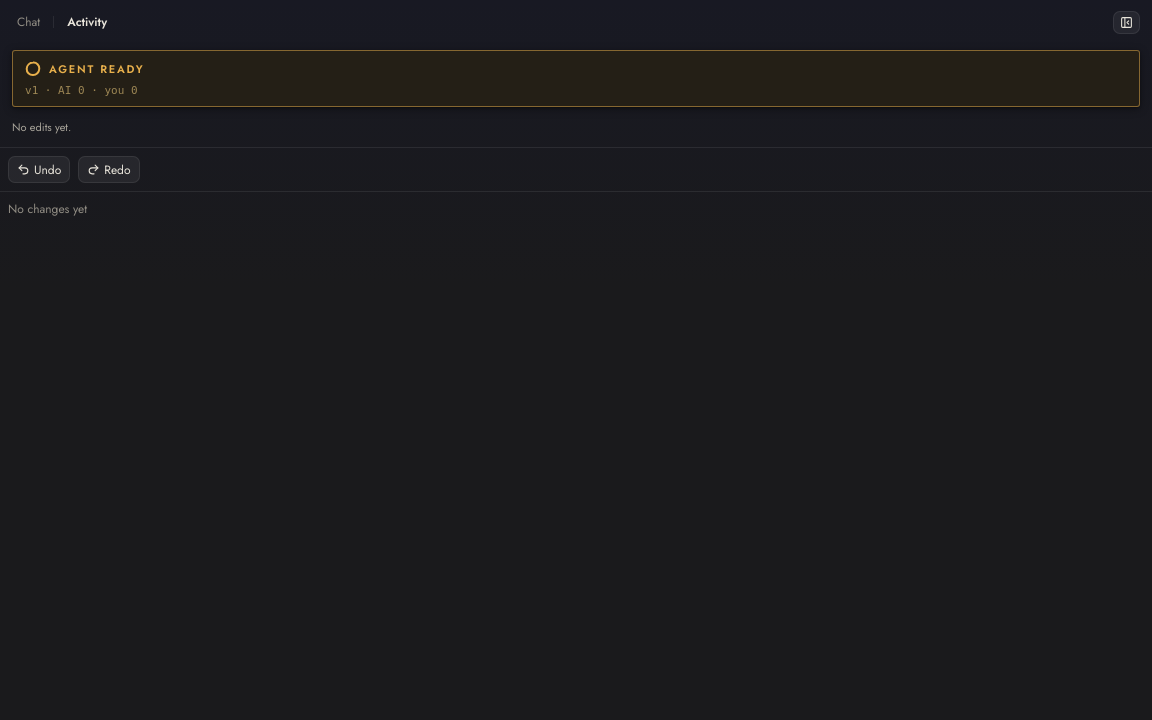
it: AI column tabs › shows the conversation on the Chat tab
Step 1. Click the button with class "tab-link" showing "Chat" → (29, 22), box [12,10,45,34]
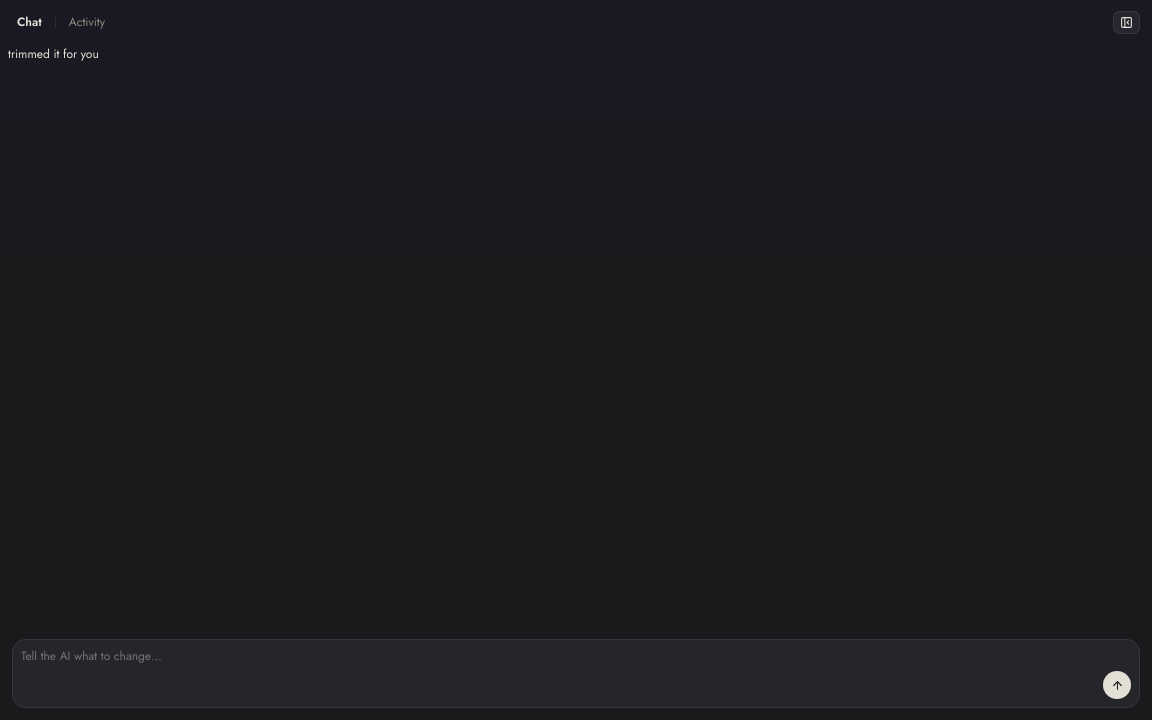
Expected: the text "trimmed it for you" is shown, [8,46,99,63]
